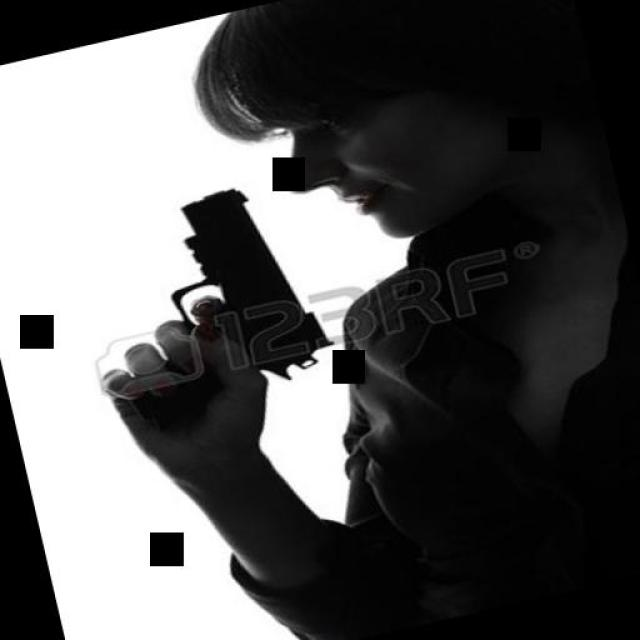gun: (45, 159, 349, 445)
